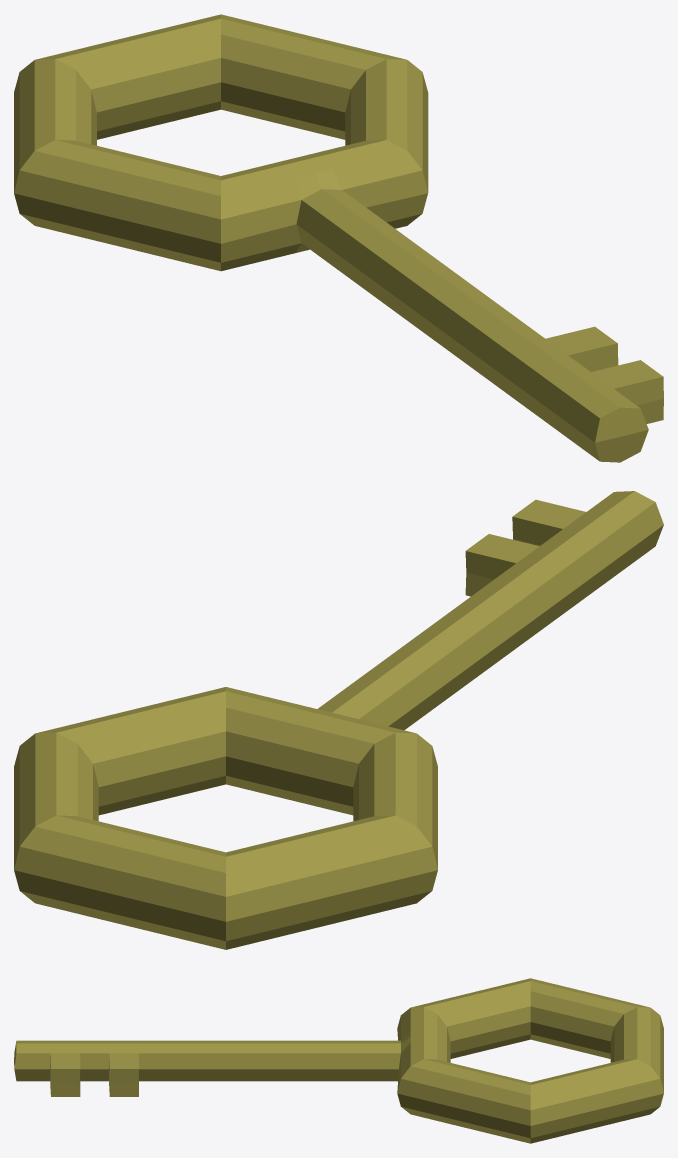
File: Chave.fbx
3 renders of one model, top to bottom at view 1: azimuth 30°, elevation 25°; view 2: azimuth 150°, elevation 25°; view 3: azimuth 270°, elevation 25°, orthographic. The views are drawn at different scales.
Visible parts, largest first — view 1: Chave; view 2: Chave; view 3: Chave.
Part boxes in pixels (x1,y1,x2,y2): Chave: [14, 14, 663, 462]; Chave: [14, 491, 663, 949]; Chave: [14, 978, 663, 1143].
Bounding box in the file's own units: 250 × 50 × 528.
